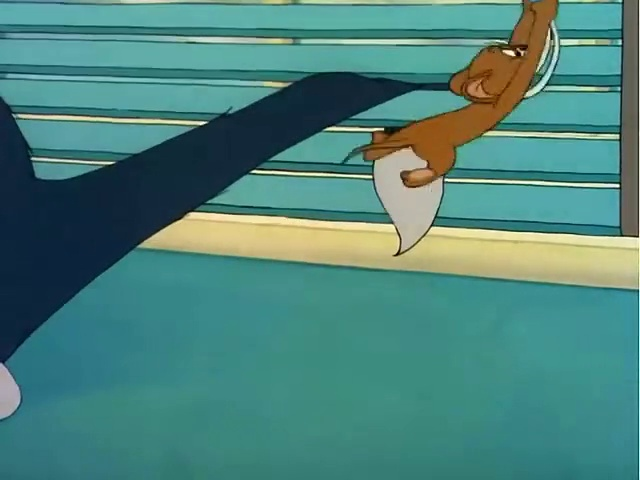jerry: (343, 5, 594, 198)
